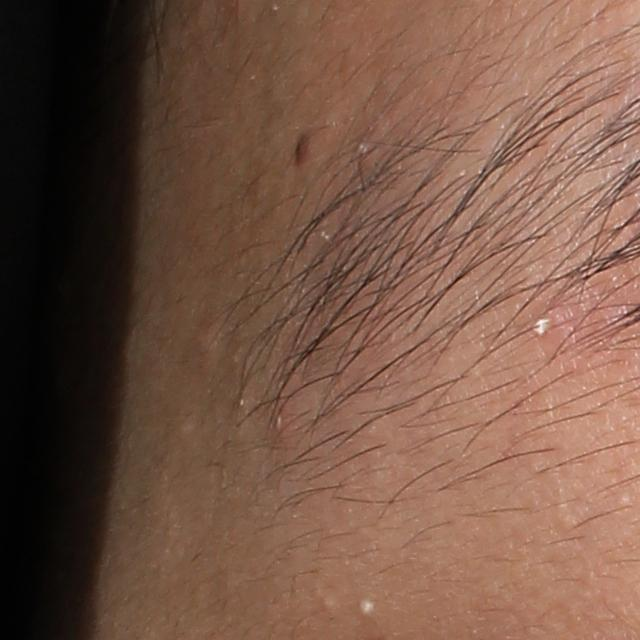other: (356, 598, 374, 615)
